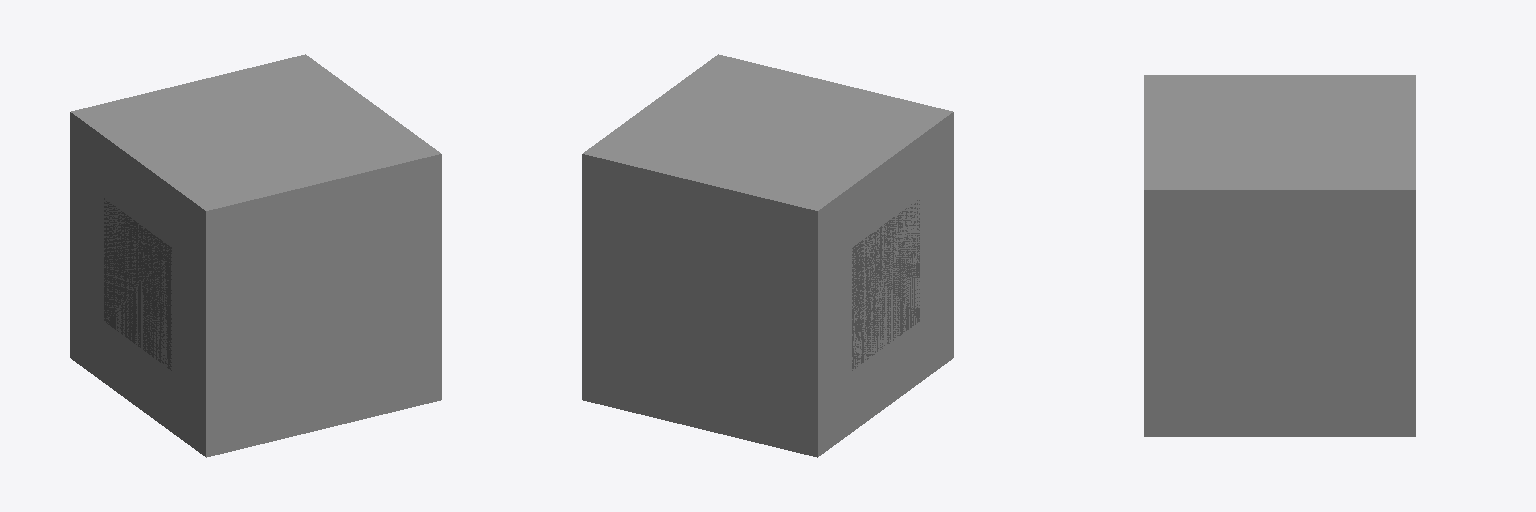
The picture shows the model from 3 angles: view 1: azimuth 30°, elevation 25°; view 2: azimuth 150°, elevation 25°; view 3: azimuth 270°, elevation 25°; orthographic projection.
Parts seen in each view (by area): view 1: Minecraft_Block_Cube, Minecraft_2_Edge_Connectivity_Cube.002, main; view 2: Minecraft_Block_Cube, Minecraft_2_Edge_Connectivity_Cube.002, main; view 3: Minecraft_Block_Cube.
Part boxes in pixels (x1,y1,x2,y2): Minecraft_Block_Cube: (71, 54, 441, 457); Minecraft_2_Edge_Connectivity_Cube.002: (70, 112, 323, 456); main: (104, 198, 171, 370); Minecraft_Block_Cube: (582, 54, 952, 457); Minecraft_2_Edge_Connectivity_Cube.002: (703, 112, 953, 456); main: (852, 200, 919, 370); Minecraft_Block_Cube: (1144, 75, 1415, 436).
Bounding box in the file's own units: 1 × 1 × 1.
Materials: 2 (1 with a texture image).